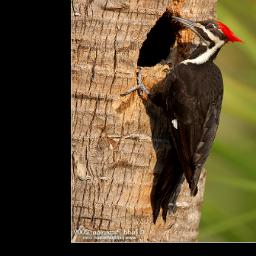Woodpecker: (119, 15, 245, 225)
